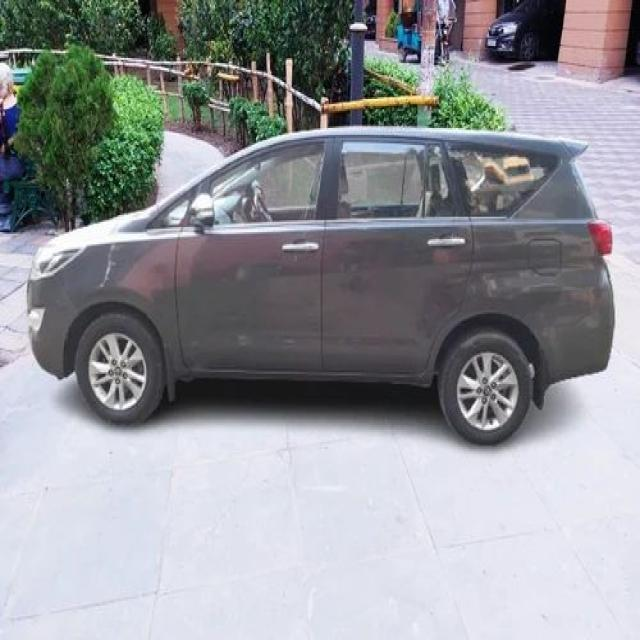light_vehicle: (26, 124, 616, 448)
